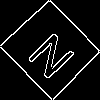N: (25, 24, 84, 82)
